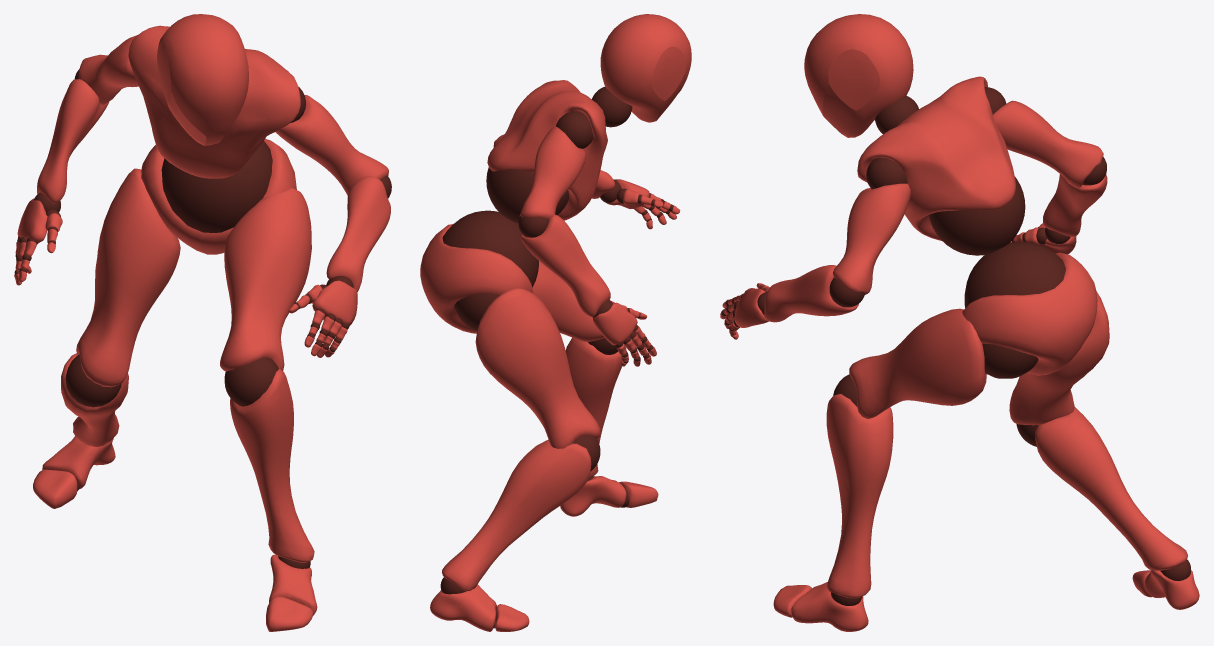
3 views of the same model, side by side, from view 1: azimuth 30°, elevation 25°; view 2: azimuth 150°, elevation 25°; view 3: azimuth 270°, elevation 25° (orthographic). The views are drawn at different scales.
Parts seen in each view (by area): view 1: Beta_Surface, Beta_Joints; view 2: Beta_Surface, Beta_Joints; view 3: Beta_Surface, Beta_Joints.
Part boxes in pixels (<box>): Beta_Surface: <box>14,14,390,631</box>; Beta_Joints: <box>14,69,391,568</box>; Beta_Surface: <box>420,14,691,631</box>; Beta_Joints: <box>440,86,673,628</box>; Beta_Surface: <box>720,14,1199,631</box>; Beta_Joints: <box>721,87,1190,605</box>.
Bounding box in the file's own units: 0.6881 × 1.4 × 1.07.
